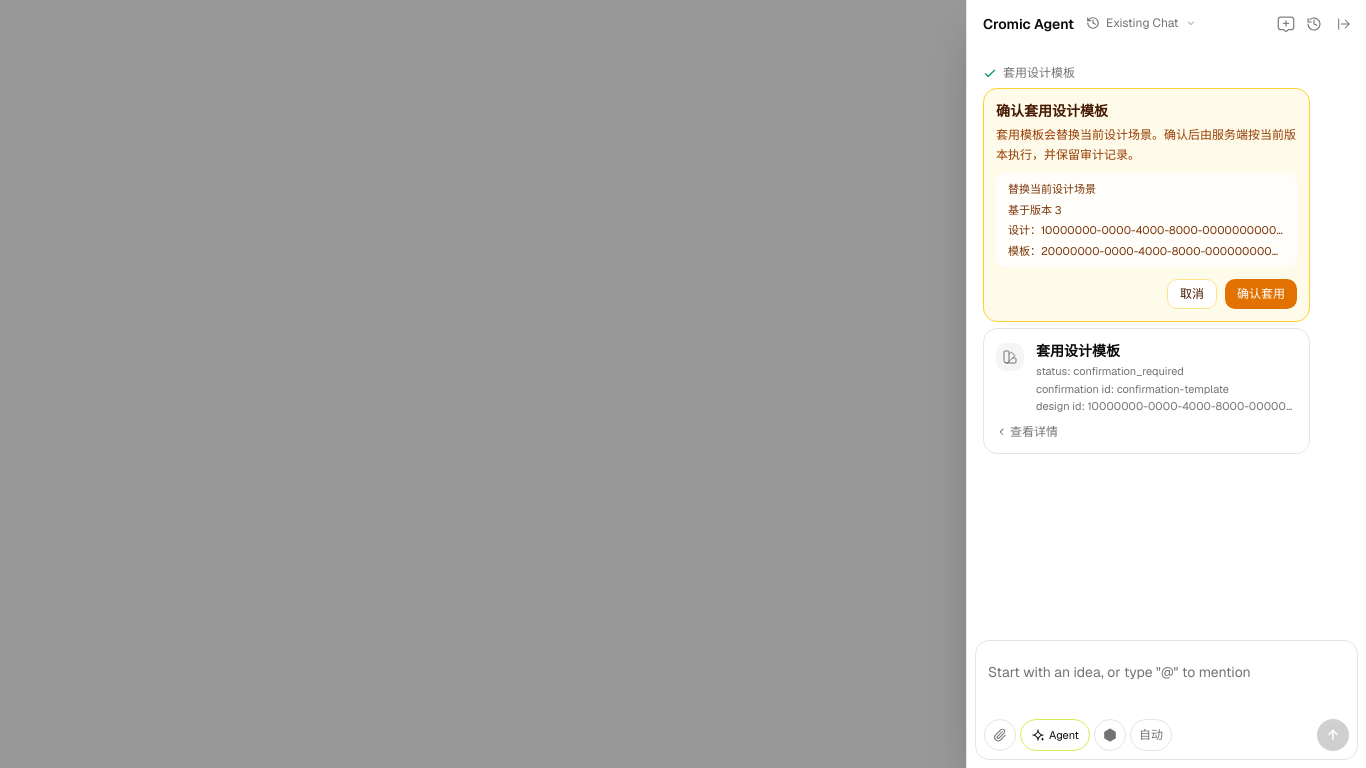
Test: ChatSidebar › confirms a design template inline without showing an image generation placeholder
Click the button "确认套用" at (1261, 294), box [1225, 279, 1297, 309]
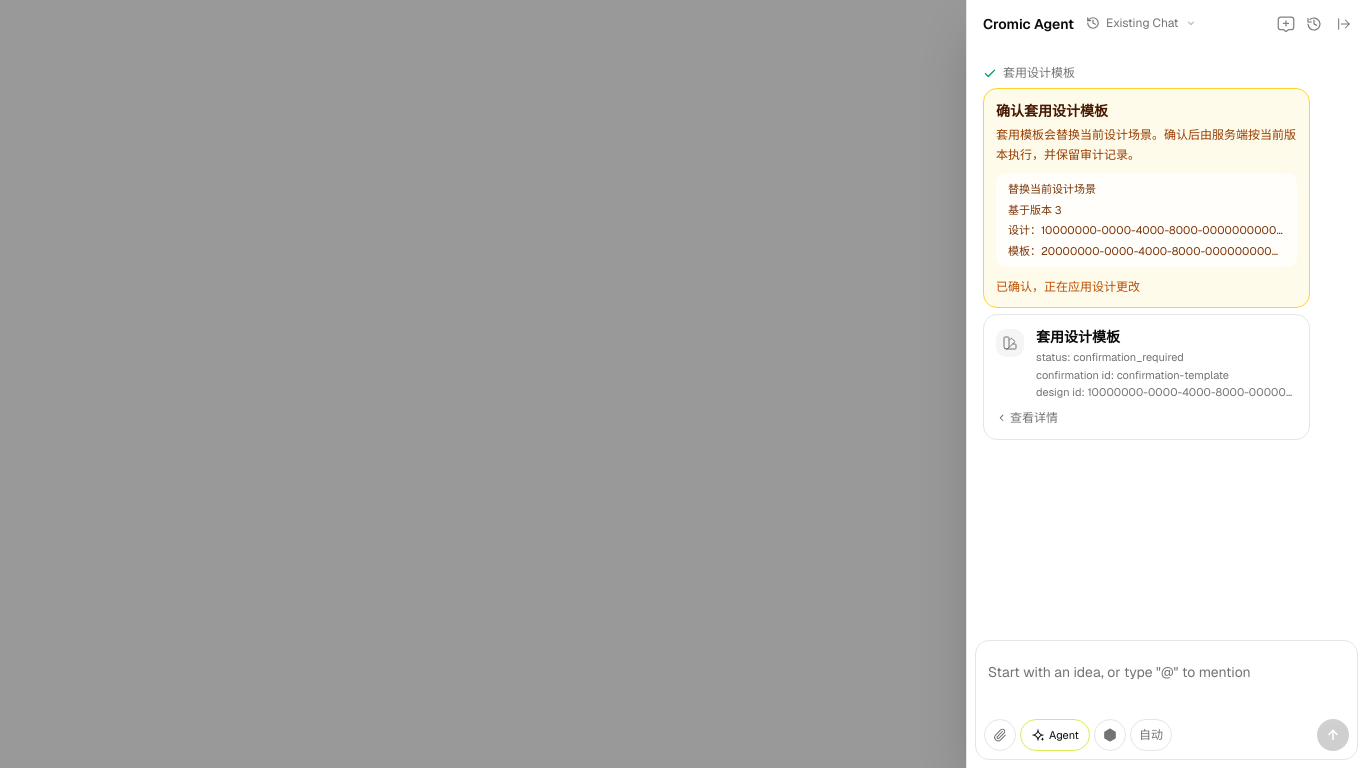
Expected: the text "已确认，正在应用设计更改" is shown, [996, 279, 1140, 295]
